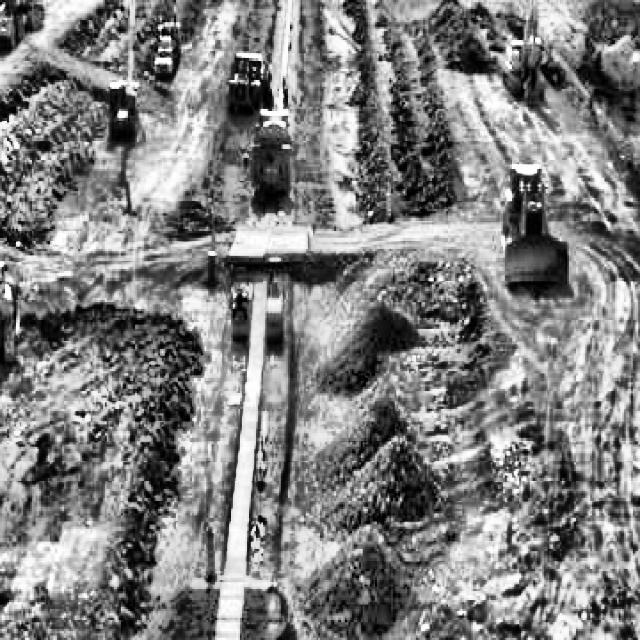dump_truck: (247, 106, 295, 198), (148, 11, 180, 76), (0, 0, 28, 51)
excavator: (498, 0, 546, 104)
